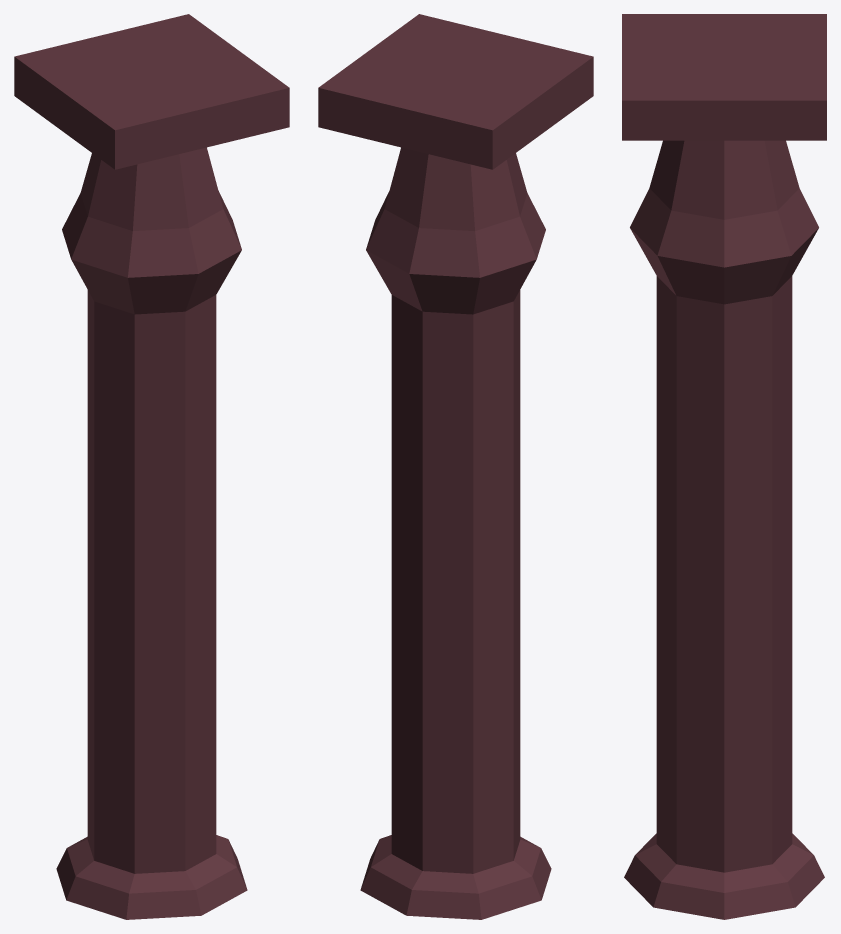
The model's file is egypt-pillar-tent-pole.fbx.
3 views of the same model, side by side, from view 1: azimuth 30°, elevation 25°; view 2: azimuth 150°, elevation 25°; view 3: azimuth 270°, elevation 25° (orthographic).
Visible parts, largest first — view 1: pilar-tent-pole; view 2: pilar-tent-pole; view 3: pilar-tent-pole.
Part boxes in pixels (box(x1,y1,x2,y2)): pilar-tent-pole: box(14, 14, 289, 919); pilar-tent-pole: box(318, 14, 593, 919); pilar-tent-pole: box(622, 14, 826, 919).
Size of the model in its own units: 2.04 by 9 by 2.04.
